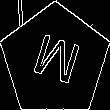M_S: (27, 30, 83, 92)
